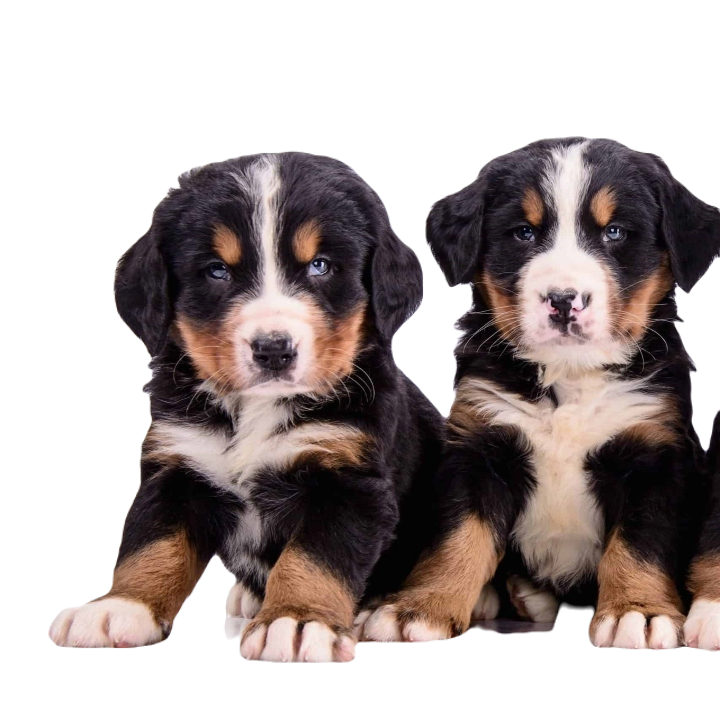Dog: (56, 152, 421, 658), (422, 117, 719, 650)
